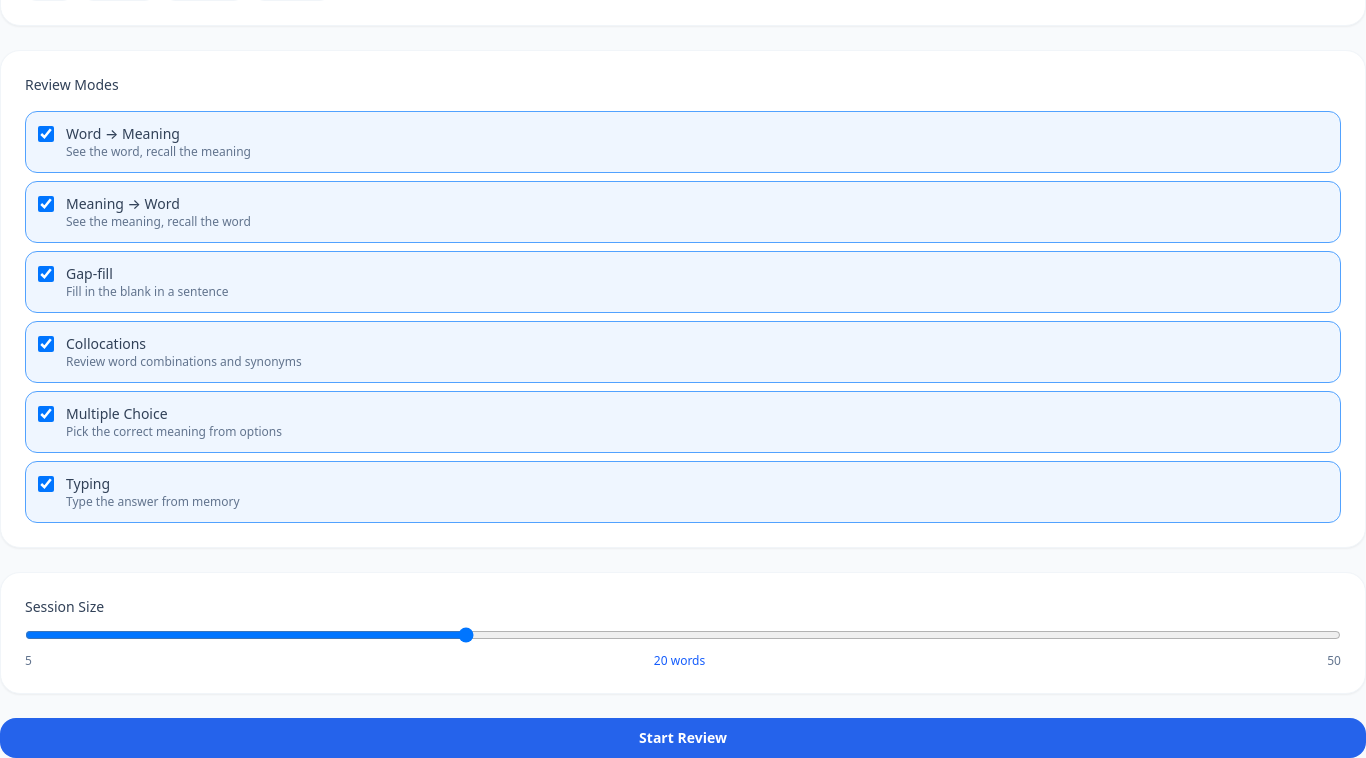
Test case: VocabularyReview › shows empty state when no reviews due
(page scrolled)
What coordinates should you click on to do the following:
click the button "Start Review"
I would click on:
 (683, 738)
Its box is [0,718,1365,757].
(page scrolled)
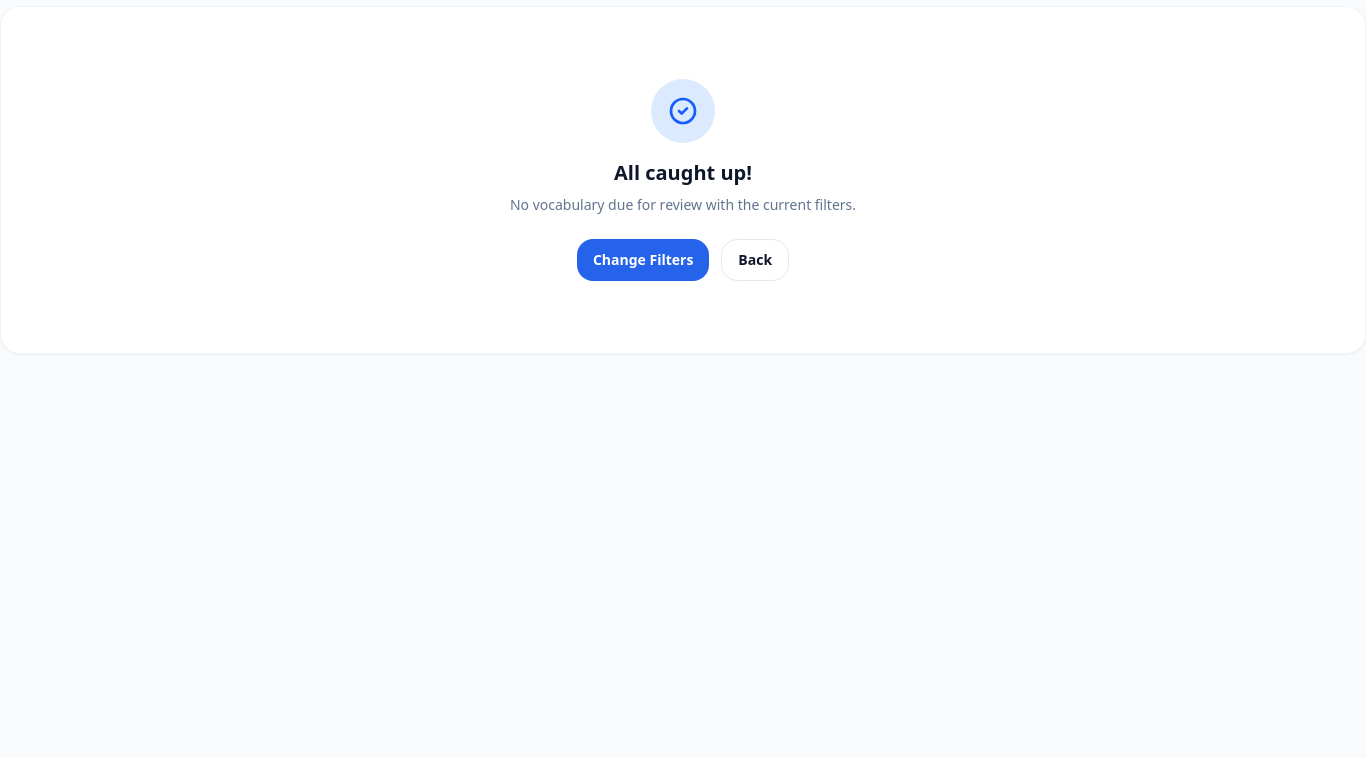
expect the heading "All caught up!" is shown: met, box [614,159,752,186]
expect the text "No vocabulary due for review with the current filters." is shown: met, box [510,195,856,214]
